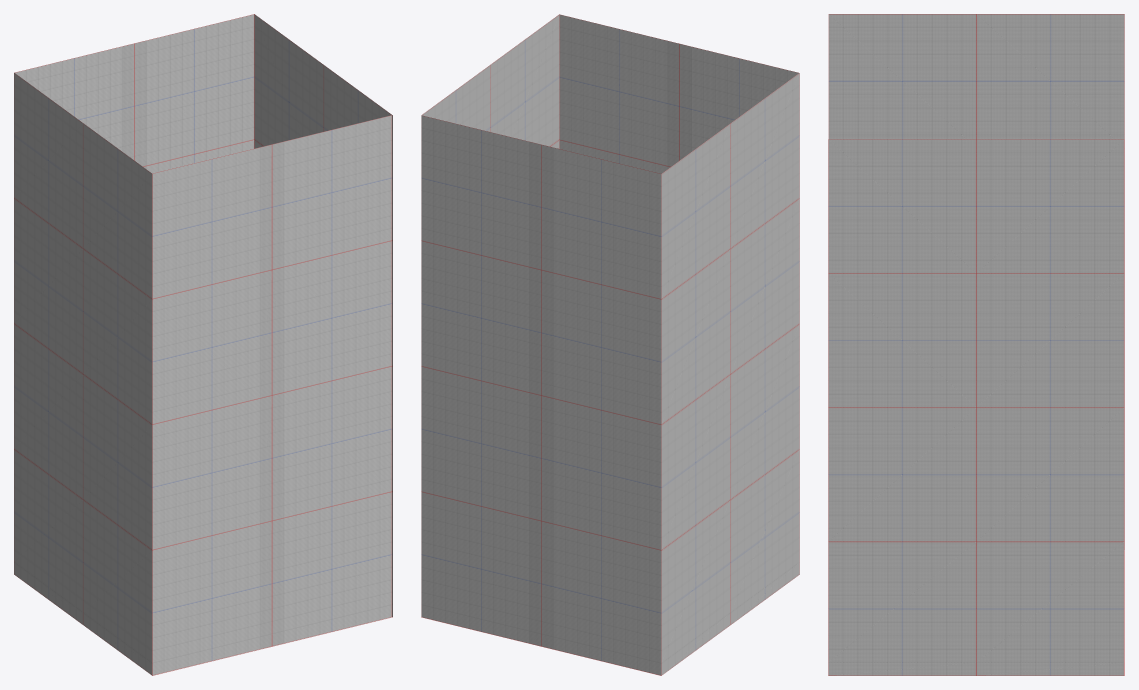
The picture shows the model from 3 angles, left to right: view 1: azimuth 30°, elevation 25°; view 2: azimuth 150°, elevation 25°; view 3: azimuth 270°, elevation 25°; orthographic projection. The views are drawn at different scales.
Parts seen in each view (by area): view 1: bg_meshgroupShape; view 2: bg_meshgroupShape; view 3: bg_meshgroupShape.
Part boxes in pixels (x1=…): bg_meshgroupShape: x1=14, y1=14, x2=392, y2=675; bg_meshgroupShape: x1=421, y1=14, x2=799, y2=675; bg_meshgroupShape: x1=828, y1=14, x2=1124, y2=675.
Bounding box in the file's own units: 214 × 214 × 428.
1 material, 1 textured.
